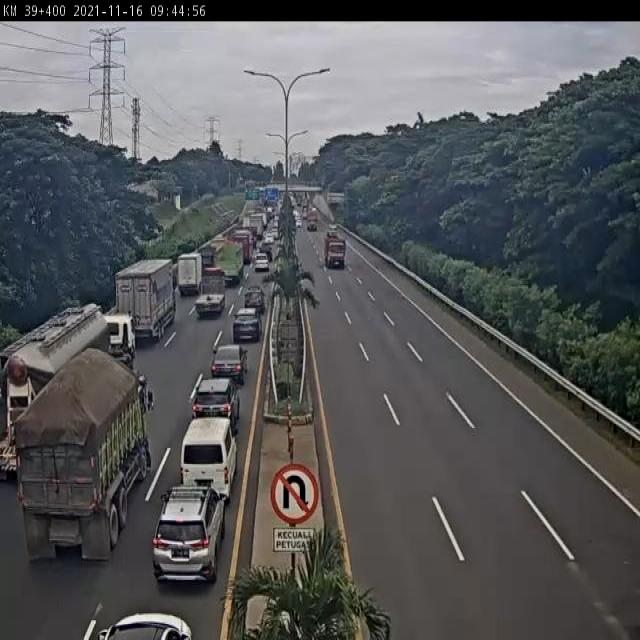Bus: (229, 230, 253, 266)
Car: (150, 484, 228, 586), (95, 610, 192, 640), (191, 375, 241, 428), (210, 344, 249, 384), (232, 309, 262, 343), (243, 285, 266, 312), (253, 253, 270, 273)
Truck: (14, 347, 154, 567), (0, 303, 141, 484), (114, 259, 175, 343), (194, 266, 226, 316), (215, 240, 245, 285), (176, 252, 204, 298), (323, 233, 347, 271), (247, 212, 264, 240), (198, 244, 215, 268), (306, 210, 318, 232)
Van: (180, 416, 238, 501)
